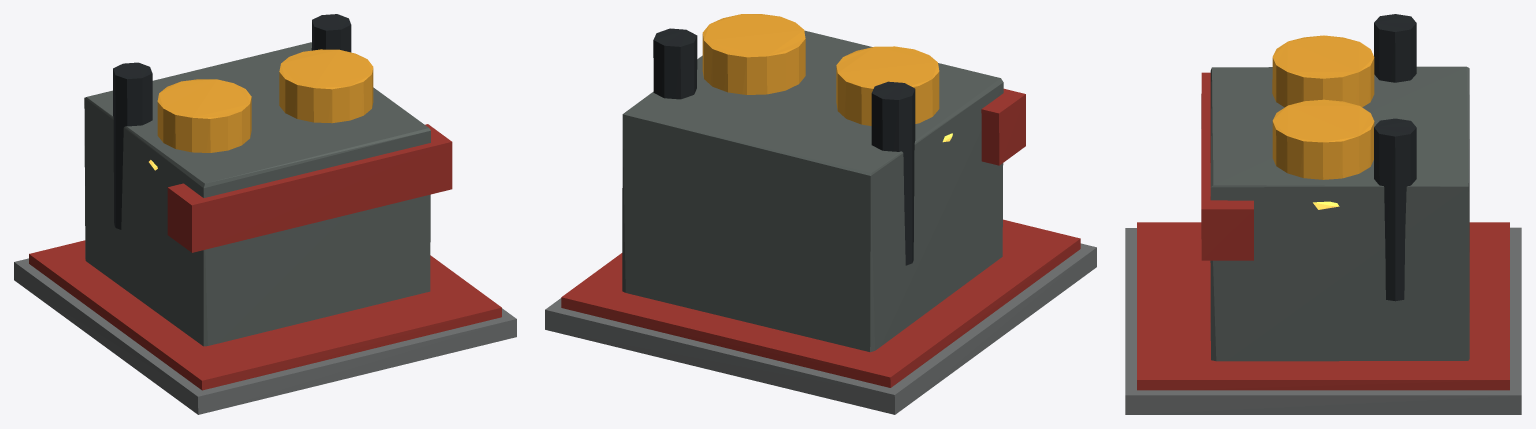
File: SM_Soviet_SU_PowerPlant_LOD2.fbx
The picture shows the model from 3 angles, left to right: view 1: azimuth 30°, elevation 25°; view 2: azimuth 150°, elevation 25°; view 3: azimuth 270°, elevation 25°; orthographic projection. The views are drawn at different scales.
Parts seen in each view (by area): view 1: LOD02_SM_Soviet_SU_PowerPlant; view 2: LOD02_SM_Soviet_SU_PowerPlant; view 3: LOD02_SM_Soviet_SU_PowerPlant.
Boxes of the visible parts, bbox=[...] form: LOD02_SM_Soviet_SU_PowerPlant: bbox=[14, 14, 516, 414]; LOD02_SM_Soviet_SU_PowerPlant: bbox=[545, 14, 1096, 414]; LOD02_SM_Soviet_SU_PowerPlant: bbox=[1125, 14, 1521, 414].
Bounding box in the file's own units: 597 × 597 × 425.
